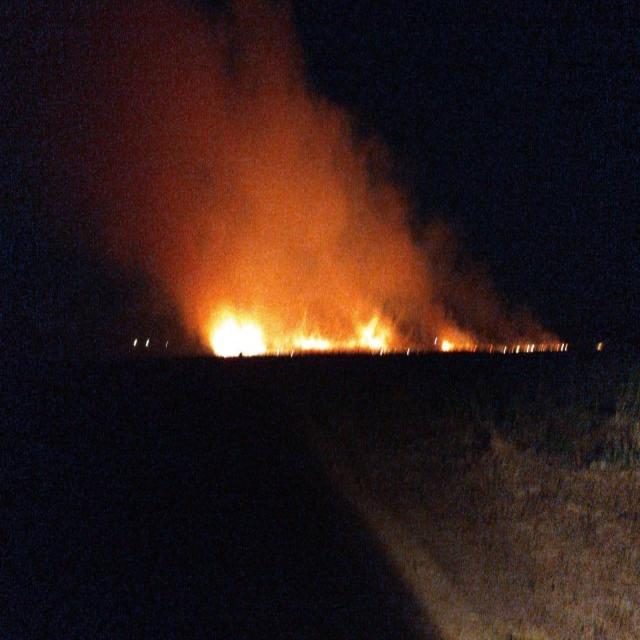Fire: (206, 305, 390, 356), (439, 338, 451, 351)
